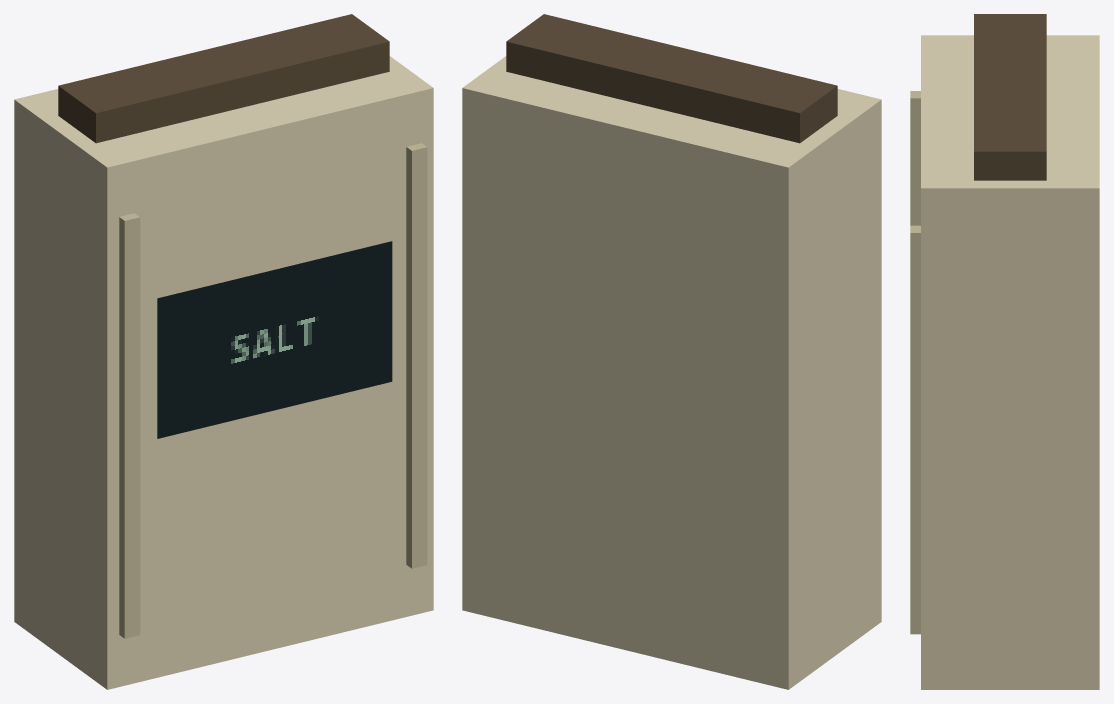
The model's file is blender_salt_1.glb.
3 renders of one model, left to right at view 1: azimuth 30°, elevation 25°; view 2: azimuth 150°, elevation 25°; view 3: azimuth 270°, elevation 25°, orthographic. The views are drawn at different scales.
Parts seen in each view (by area): view 1: blender_salt_1; view 2: blender_salt_1; view 3: blender_salt_1.
Boxes of the visible parts, <box> form: blender_salt_1: <box>14,14,433,689</box>; blender_salt_1: <box>462,14,881,689</box>; blender_salt_1: <box>910,14,1099,689</box>.
Size of the model in its own units: 0.085 by 0.1375 by 0.0445.
1 material, 1 textured.
